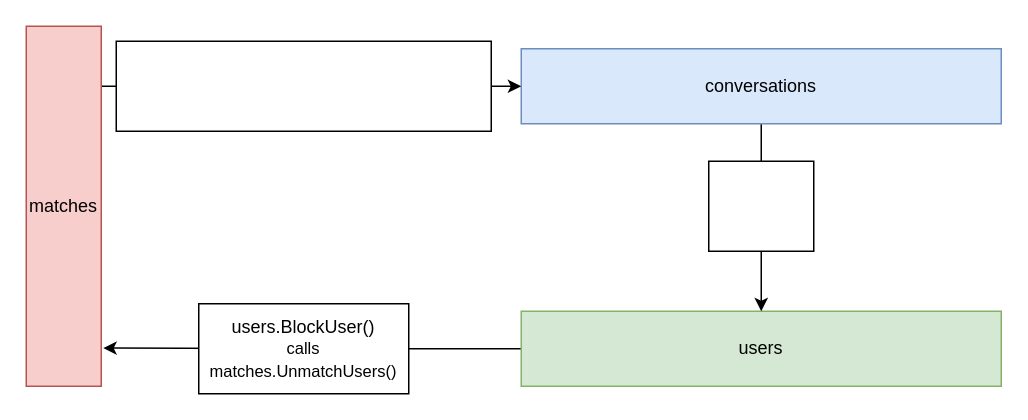
The diagram is 1028 pixels wide and 420 high, and some of its shapes have lost their labels. The shapes that lost their labels are listed below. From the top down, each one's centre as x and y in pixels, then its label:
At [303,85]: "matches.UnmatchUsers() calls conversations.LeaveAllConversationsWithUser()".
At [760,205]: "Uses users.User type".
